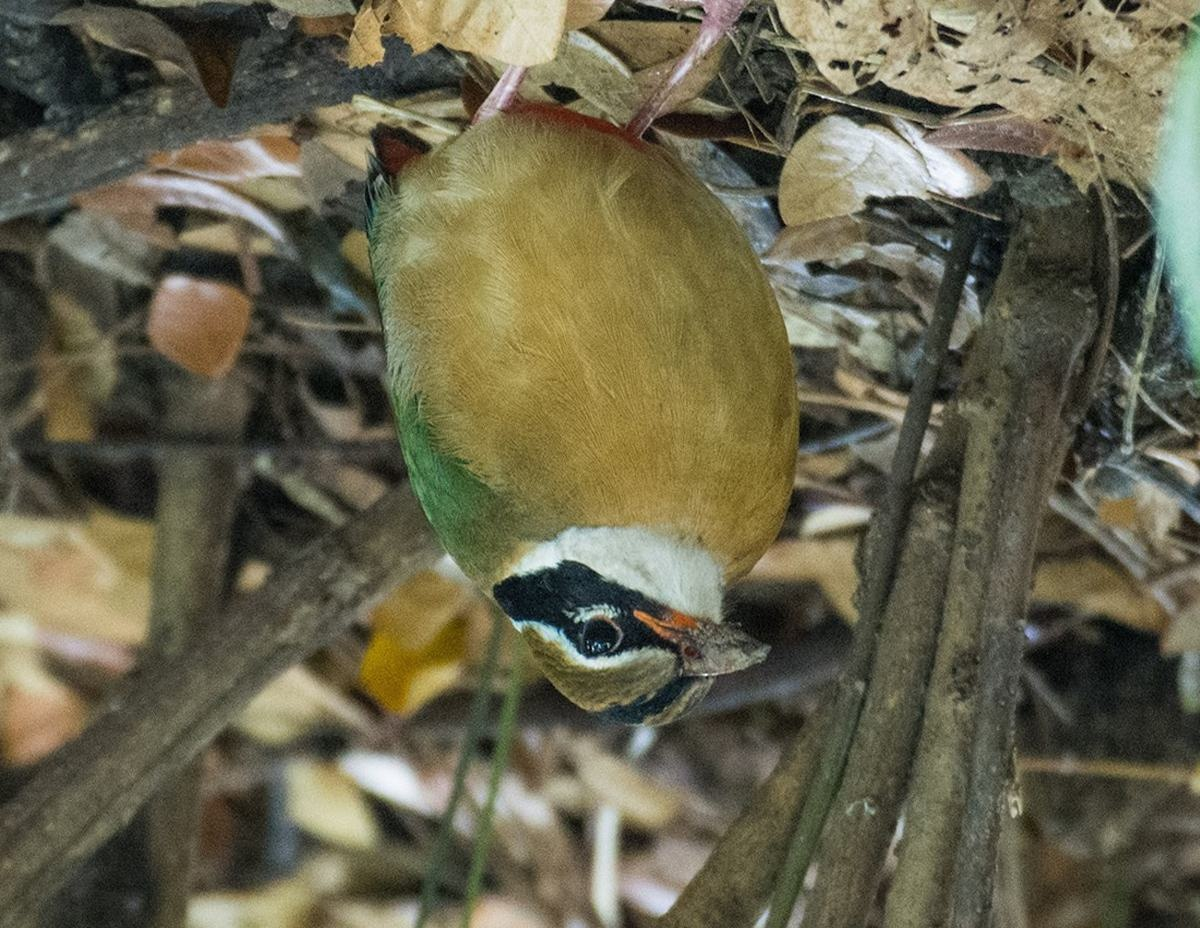pitta: (386, 57, 790, 741)
